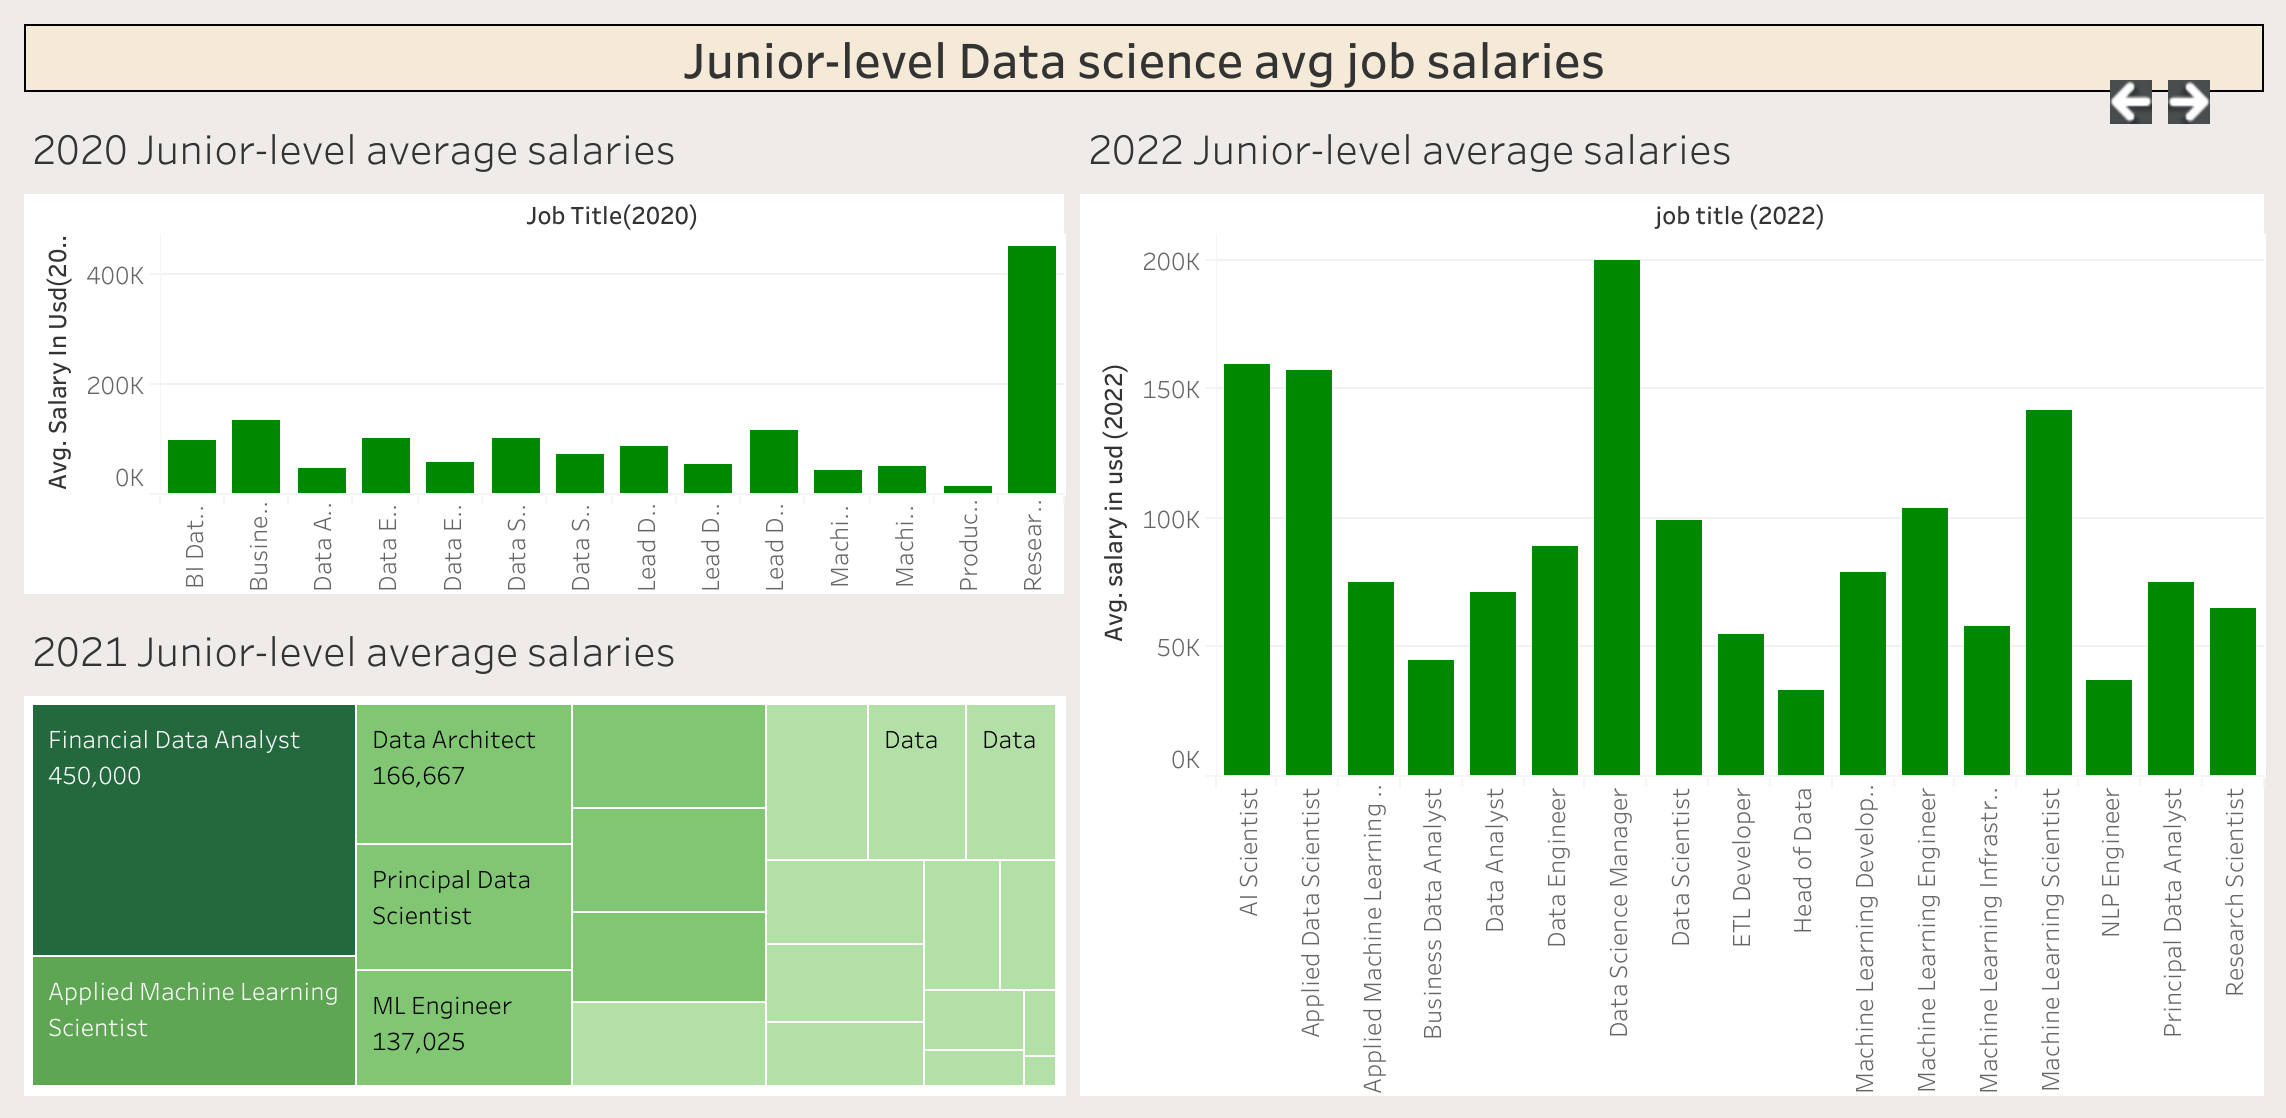

What the dashboard file says about the page in this screenshot:
{"tool":"tableau","page":{"name":"Dashboard 2","canvas":[1000,1000],"units":"permille","ordinal":1},"visuals":[{"type":"title","box":[7.6,13.8,984.8,70.7]},{"type":"dashboard-object","box":[920.1,71.4,22.1,39.3]},{"type":"dashboard-object","box":[946.1,71.4,22.1,39.3]},{"type":"worksheet","title":"Sheet 4","mark":"Automatic","rows":["salary_in_usd"],"cols":["job_title"],"box":[7.6,84.5,461,450.2]},{"type":"worksheet","title":"Sheet 6","mark":"Automatic","rows":["salary_in_usd (2022 Junior level job salaries.csv)"],"cols":["job_title (2022 Junior level job salaries.csv)"],"box":[468.6,84.5,523.8,901.7]},{"type":"worksheet","title":"Sheet 5","mark":"Automatic","box":[7.6,534.7,461,451.5]}]}

Visuals, with their boxes on the dashboard's canvas, which has no fixed pixel size, in thousandths of its width and height (x1, y1, x2, y2). These are canvas units, not pixel positions in the 2286x1118 screenshot, which may show the page scaled, cropped or inside an application window:
title: x1=8 y1=14 x2=992 y2=84
dashboard-object: x1=920 y1=71 x2=942 y2=111
dashboard-object: x1=946 y1=71 x2=968 y2=111
"Sheet 4" worksheet: x1=8 y1=84 x2=469 y2=535
"Sheet 6" worksheet: x1=469 y1=84 x2=992 y2=986
"Sheet 5" worksheet: x1=8 y1=535 x2=469 y2=986
